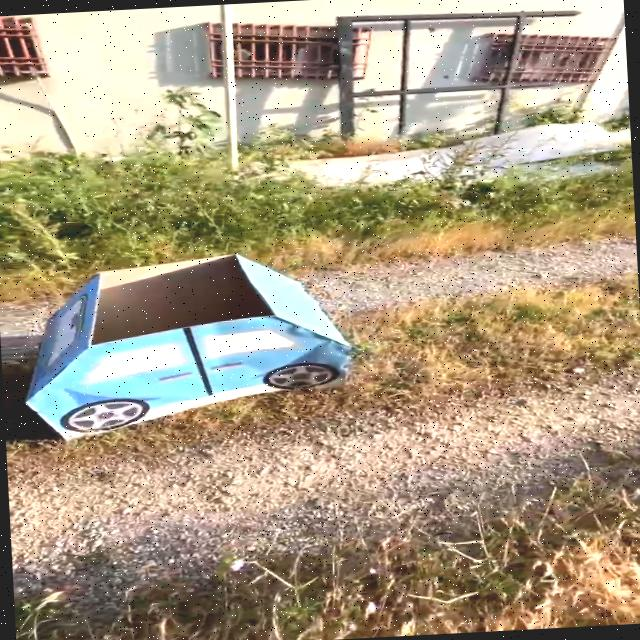blue_car: (0, 204, 411, 459)
